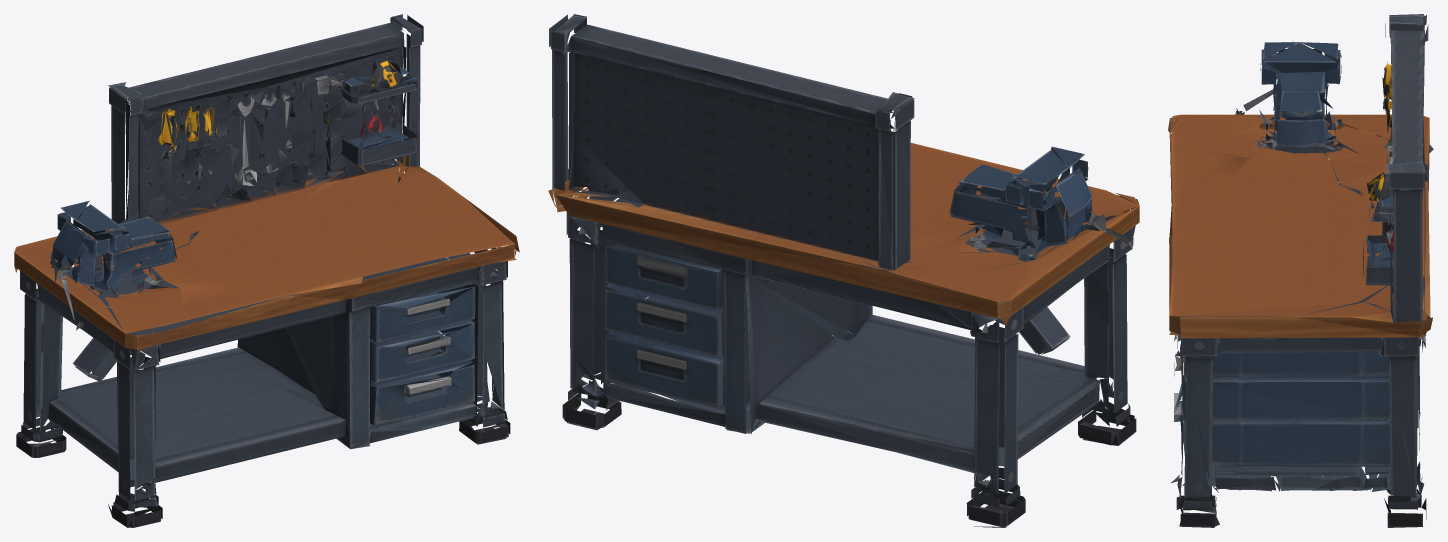
Rendered from workbench_steel_lod2.glb.
3 renders of one model, left to right at view 1: azimuth 30°, elevation 25°; view 2: azimuth 150°, elevation 25°; view 3: azimuth 270°, elevation 25°, orthographic. The views are drawn at different scales.
Visible parts, largest first — view 1: LOD2; view 2: LOD2; view 3: LOD2.
Part boxes in pixels (x1,y1,x2,y2): LOD2: [14, 14, 519, 527]; LOD2: [548, 14, 1139, 527]; LOD2: [1168, 14, 1433, 527].
Size of the model in its own units: 1.61 by 1.26 by 0.8242.
1 material, 1 textured.
